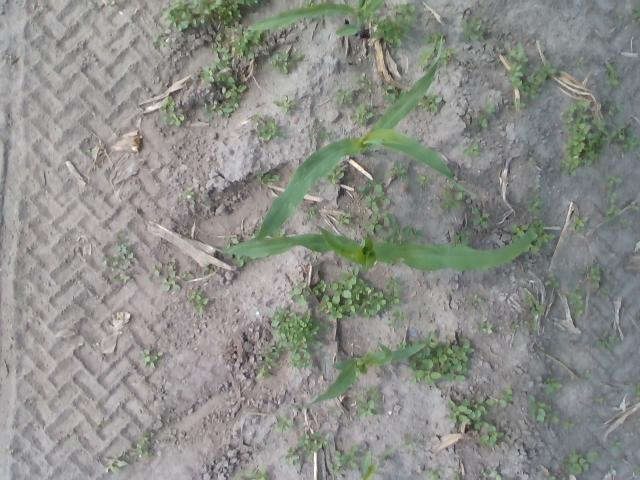Maize: (254, 34, 476, 239), (210, 224, 538, 270), (298, 342, 427, 410), (246, 1, 384, 39), (360, 442, 411, 480)
Weeds: (318, 267, 387, 321), (410, 330, 474, 388), (562, 98, 608, 176), (270, 306, 322, 368), (211, 23, 266, 69), (102, 238, 139, 282), (163, 0, 212, 31), (210, 0, 258, 24), (375, 16, 410, 47), (215, 68, 248, 98), (258, 340, 284, 377), (327, 445, 358, 476), (564, 448, 598, 474), (608, 125, 640, 151), (298, 430, 330, 452), (448, 398, 476, 423), (476, 422, 504, 446), (460, 18, 486, 43), (387, 226, 422, 244), (530, 394, 552, 421), (356, 397, 380, 419), (288, 282, 310, 306), (349, 103, 374, 124), (137, 349, 164, 368), (508, 42, 530, 65), (395, 5, 421, 24), (524, 292, 546, 314), (278, 446, 300, 467), (272, 95, 296, 114), (442, 46, 461, 70), (470, 206, 490, 228), (423, 93, 442, 115), (537, 61, 556, 83), (606, 61, 620, 90), (444, 182, 466, 200), (504, 63, 522, 85), (106, 456, 128, 474), (418, 46, 434, 70), (332, 87, 353, 105), (275, 413, 292, 434), (474, 403, 488, 428), (526, 198, 546, 215), (338, 213, 366, 225), (361, 218, 382, 234), (509, 224, 530, 240), (236, 469, 266, 480), (544, 376, 562, 394), (402, 432, 421, 449), (190, 298, 210, 314), (376, 184, 390, 206), (390, 160, 408, 177), (442, 196, 461, 212), (386, 285, 400, 306), (258, 122, 274, 140), (606, 204, 622, 222), (522, 84, 541, 99), (499, 388, 514, 407), (375, 212, 395, 226), (130, 444, 150, 458), (568, 292, 584, 309), (160, 96, 176, 112), (472, 112, 488, 128), (217, 102, 234, 117), (462, 142, 480, 156), (571, 216, 588, 230), (163, 278, 181, 291), (363, 388, 382, 400), (364, 195, 378, 211), (314, 280, 328, 296), (538, 234, 556, 246), (454, 228, 472, 240), (590, 264, 602, 282), (325, 174, 346, 184), (545, 273, 560, 287), (608, 104, 627, 115), (202, 66, 215, 82), (526, 65, 538, 82), (476, 396, 496, 406), (534, 220, 548, 234), (320, 127, 333, 142), (170, 114, 186, 126), (202, 104, 214, 120), (166, 259, 176, 278), (414, 174, 432, 184), (153, 36, 168, 48), (427, 468, 442, 480), (358, 181, 374, 192), (606, 175, 622, 186), (595, 340, 612, 350), (596, 284, 610, 296), (510, 99, 526, 109), (276, 61, 288, 74), (361, 80, 374, 92), (140, 430, 152, 443), (183, 187, 195, 199), (263, 174, 279, 183), (392, 308, 404, 320), (484, 98, 494, 112), (388, 276, 399, 288), (607, 190, 617, 203), (181, 272, 197, 280), (537, 408, 546, 422), (273, 52, 288, 60), (304, 206, 314, 218), (610, 440, 622, 450), (330, 406, 340, 418), (152, 264, 162, 276), (379, 84, 396, 91), (480, 470, 497, 477), (254, 169, 265, 179), (548, 412, 558, 423), (232, 95, 241, 107), (602, 94, 614, 103), (628, 202, 640, 211), (570, 309, 582, 318), (318, 322, 331, 330), (428, 34, 438, 44), (564, 420, 574, 430), (467, 194, 478, 203), (382, 94, 396, 101), (310, 128, 318, 140), (632, 8, 640, 20), (474, 294, 482, 306), (633, 382, 640, 395), (528, 321, 538, 330), (192, 290, 202, 299), (356, 74, 367, 82), (633, 464, 640, 476), (528, 156, 538, 164), (476, 322, 486, 330), (461, 238, 472, 245), (620, 218, 629, 226), (388, 317, 396, 326), (574, 59, 584, 66), (566, 281, 576, 288), (484, 326, 494, 333), (104, 0, 115, 6), (294, 54, 302, 62), (530, 245, 538, 253), (608, 336, 616, 344), (509, 324, 518, 331), (211, 100, 217, 110), (578, 270, 590, 275), (544, 475, 556, 480), (396, 342, 406, 348), (204, 268, 214, 274), (595, 394, 602, 402), (275, 130, 284, 136), (252, 114, 258, 122), (467, 296, 473, 304), (574, 416, 580, 423), (374, 109, 379, 117), (602, 331, 608, 337), (496, 474, 502, 480), (586, 370, 590, 378), (270, 60, 276, 65), (618, 14, 623, 20), (164, 116, 168, 123), (482, 318, 487, 323), (450, 289, 455, 294), (456, 476, 461, 480), (586, 345, 590, 349)
